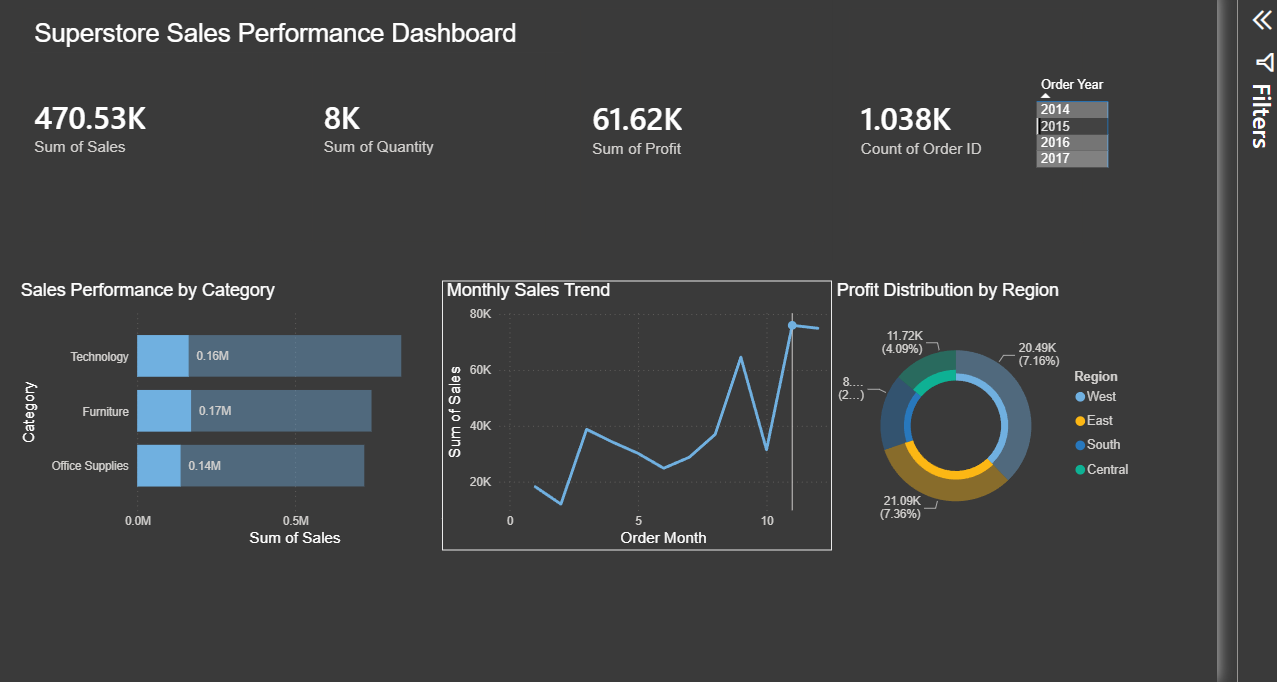

What the dashboard file says about the page in this screenshot:
{"tool":"powerbi","page":{"name":"Page 1","canvas":[1280,720],"ordinal":0},"visuals":[{"type":"cardVisual","fields":{"Data":["Sum(Superstore_Cleaned.Sales)"]},"box":[17.2,0,281.3,279.8],"z":0},{"type":"cardVisual","fields":{"Data":["Count(Superstore_Cleaned.Order ID)"]},"box":[878,0,279.9,281.5],"z":1000},{"type":"cardVisual","fields":{"Data":["Sum(Superstore_Cleaned.Quantity)"]},"box":[318.1,0,279.9,279.9],"z":2000},{"type":"cardVisual","fields":{"Data":["Sum(Superstore_Cleaned.Profit)"]},"box":[598.1,0,279.9,281.5],"z":3000},{"type":"clusteredBarChart","title":"Sales Performance by Category","fields":{"Category":["Superstore_Cleaned.Category"],"Y":["Sum(Superstore_Cleaned.Sales)"]},"box":[28.6,302.2,474,281.5],"z":4000},{"type":"lineChart","title":"Monthly Sales Trend","fields":{"Category":["Superstore_Cleaned.Order Month"],"Y":["Sum(Superstore_Cleaned.Sales)"]},"box":[502.6,302.2,407.2,281.5],"z":5000},{"type":"donutChart","title":"Profit Distribution by Region","fields":{"Category":["Superstore_Cleaned.Region"],"Y":["Sum(Superstore_Cleaned.Profit)"]},"box":[909.7,301.7,323.5,281.3],"z":6000},{"type":"listSlicer","fields":{"Values":["Superstore_Cleaned.Order Year"]},"box":[1086.3,78.1,146.9,190.7],"z":7000},{"type":"textbox","box":[42.2,23.4,556.4,40.6],"z":7001}]}

Visuals, with their boxes on the page's 1280x720 design canvas (x1, y1, x2, y2). These are canvas units, not pixel positions in the 1277x682 screenshot, which may show the page scaled, cropped or inside an application window:
cardVisual - Sum(Superstore_Cleaned.Sales): [left=17, top=0, right=298, bottom=280]
cardVisual - Count(Superstore_Cleaned.Order ID): [left=878, top=0, right=1158, bottom=282]
cardVisual - Sum(Superstore_Cleaned.Quantity): [left=318, top=0, right=598, bottom=280]
cardVisual - Sum(Superstore_Cleaned.Profit): [left=598, top=0, right=878, bottom=282]
"Sales Performance by Category" clusteredBarChart: [left=29, top=302, right=503, bottom=584]
"Monthly Sales Trend" lineChart: [left=503, top=302, right=910, bottom=584]
"Profit Distribution by Region" donutChart: [left=910, top=302, right=1233, bottom=583]
listSlicer - Superstore_Cleaned.Order Year: [left=1086, top=78, right=1233, bottom=269]
textbox: [left=42, top=23, right=599, bottom=64]
